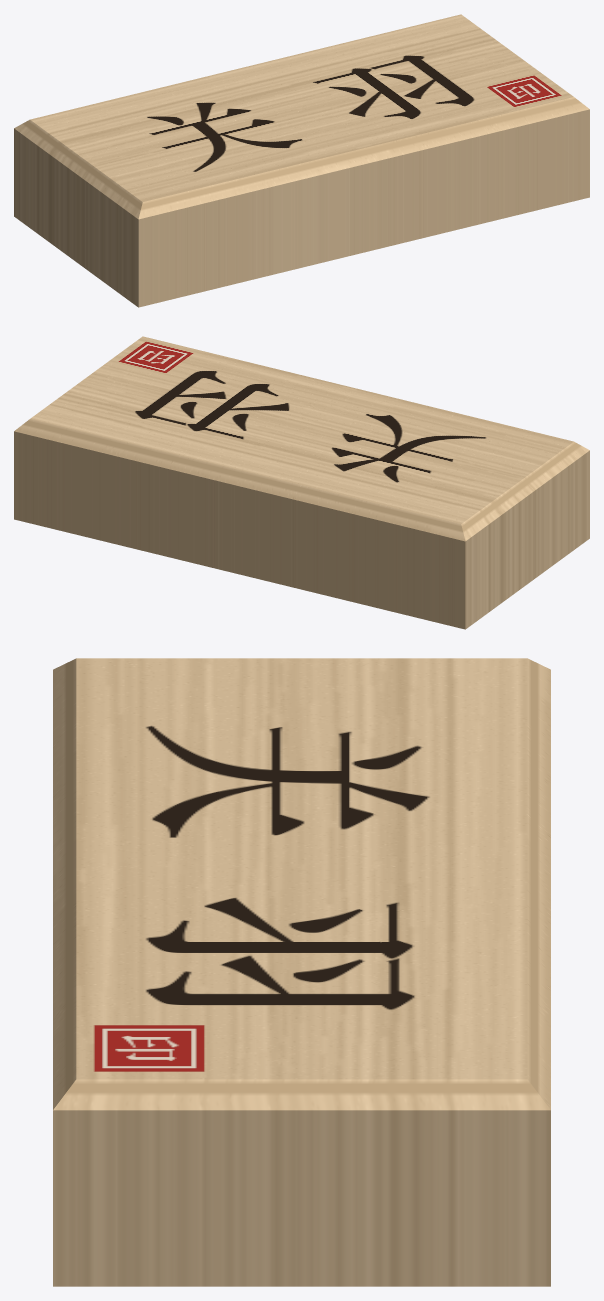
Rendered from tile_guan.glb.
3 renders of one model, top to bottom at view 1: azimuth 30°, elevation 25°; view 2: azimuth 150°, elevation 25°; view 3: azimuth 270°, elevation 25°, orthographic. The views are drawn at different scales.
Visible parts, largest first — view 1: tile_guan; view 2: tile_guan; view 3: tile_guan.
Boxes of the visible parts, bbox=[...] form: tile_guan: bbox=[14, 14, 589, 307]; tile_guan: bbox=[14, 336, 589, 629]; tile_guan: bbox=[53, 658, 550, 1286].
Bounding box in the file's own units: 0.134 × 0.028 × 0.064.
1 material, 1 textured.
